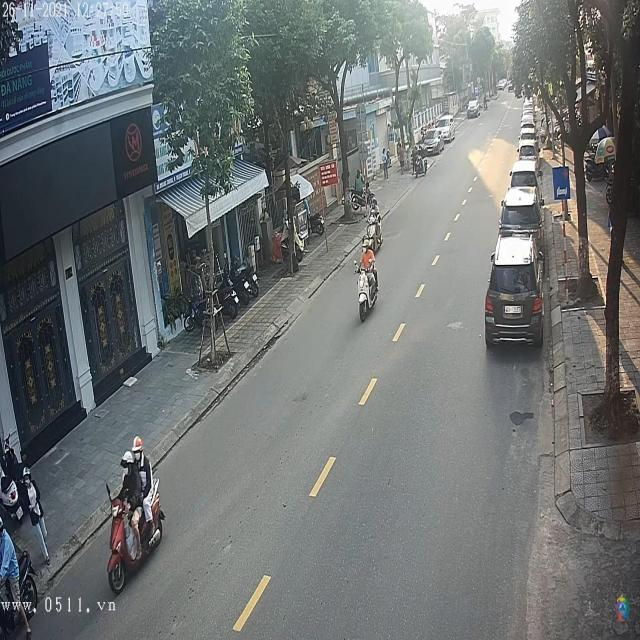bus: (486, 229, 544, 349)
motorcycle: (104, 485, 165, 594), (357, 264, 378, 324), (365, 210, 386, 258)
